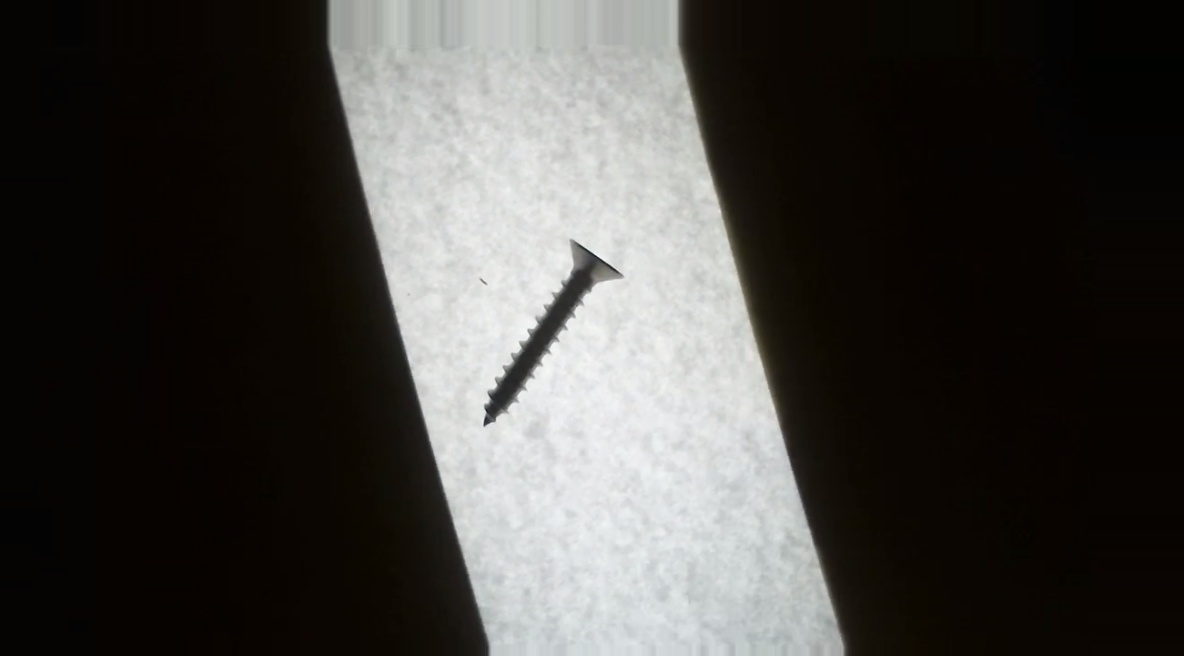S001: (453, 231, 629, 441)
